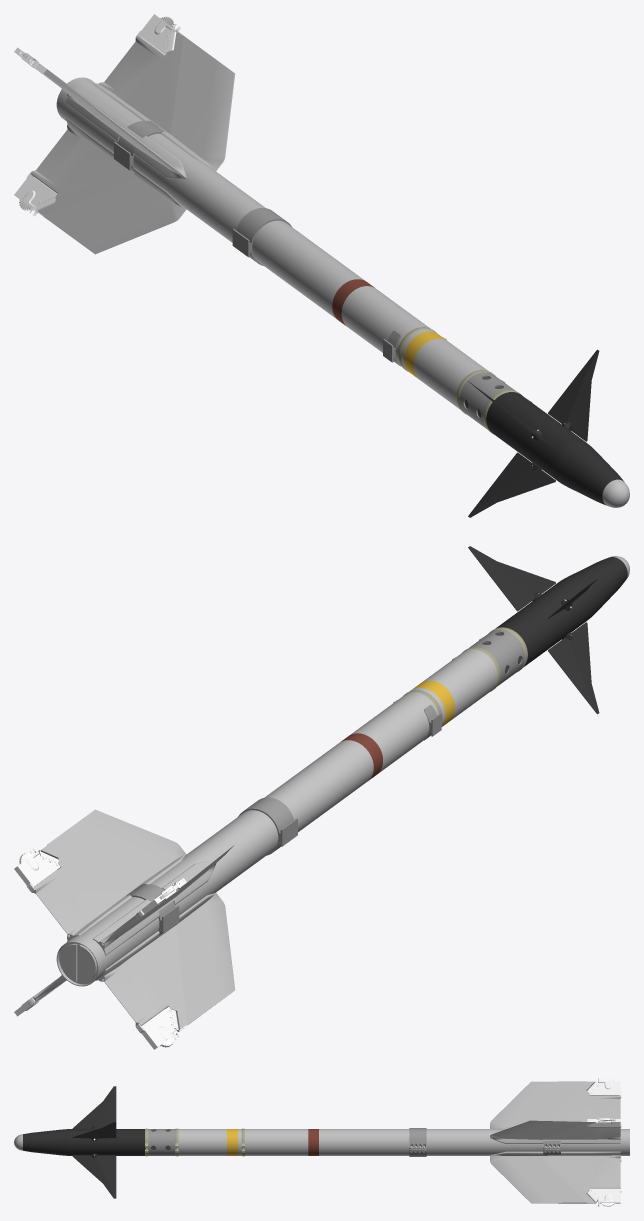
Rendered from aim-9m__sidewinder.glb.
3 views of the same model, one above another, from view 1: azimuth 30°, elevation 25°; view 2: azimuth 150°, elevation 25°; view 3: azimuth 270°, elevation 25° (orthographic). The views are drawn at different scales.
Parts seen in each view (by area): view 1: Cylinder_52, Plane_008_47, Plane_001_41, Plane_004_44, Cube_012_9, Cube_014_11, Cylinder_021_25, Cylinder_002_12, Cylinder_010_18, Cylinder_024_28, Cylinder_018_23; view 2: Cylinder_52, Plane_008_47, Plane_001_41, Plane_004_44, Cube_012_9, Cube_014_11, Cylinder_021_25, Cylinder_002_12, Cylinder_024_28, Cylinder_010_18; view 3: Cylinder_52, Plane_017_51, Plane_004_44, Plane_001_41, Cube_011_8, Cube_013_10, Cylinder_021_25, Cylinder_036_39, Cube_014_11, Cylinder_011_19, Cylinder_018_23, Cylinder_010_18 (+1 smaller).
Part boxes in pixels (left/top/right/bottom): Cylinder_52: left=56, top=77, right=629, bottom=507; Plane_008_47: left=30, top=117, right=186, bottom=254; Plane_001_41: left=92, top=31, right=235, bottom=170; Plane_004_44: left=36, top=69, right=186, bottom=178; Cube_012_9: left=468, top=452, right=555, bottom=517; Cube_014_11: left=548, top=349, right=599, bottom=441; Cylinder_021_25: left=232, top=208, right=291, bottom=265; Cylinder_002_12: left=138, top=14, right=180, bottom=54; Cylinder_010_18: left=114, top=121, right=163, bottom=172; Cylinder_024_28: left=14, top=174, right=56, bottom=215; Cylinder_018_23: left=397, top=327, right=532, bottom=434; Cylinder_52: left=56, top=556, right=629, bottom=986; Plane_008_47: left=96, top=892, right=235, bottom=1029; Plane_001_41: left=32, top=809, right=186, bottom=941; Plane_004_44: left=93, top=843, right=234, bottom=955; Cube_012_9: left=548, top=622, right=599, bottom=714; Cube_014_11: left=468, top=546, right=555, bottom=611; Cylinder_021_25: left=238, top=797, right=297, bottom=855; Cylinder_002_12: left=14, top=847, right=60, bottom=886; Cylinder_024_28: left=141, top=1006, right=180, bottom=1049; Cylinder_010_18: left=128, top=884, right=179, bottom=935; Cylinder_52: left=14, top=1129, right=629, bottom=1155; Plane_017_51: left=490, top=1151, right=620, bottom=1203; Plane_004_44: left=490, top=1081, right=620, bottom=1128; Plane_001_41: left=490, top=1119, right=620, bottom=1143; Cube_011_8: left=72, top=1153, right=116, bottom=1198; Cube_013_10: left=72, top=1086, right=116, bottom=1128; Cylinder_021_25: left=409, top=1128, right=426, bottom=1156; Cylinder_036_39: left=587, top=1188, right=620, bottom=1206; Cube_014_11: left=72, top=1122, right=116, bottom=1141; Cylinder_011_19: left=587, top=1081, right=620, bottom=1095; Cylinder_018_23: left=145, top=1128, right=244, bottom=1156; Cylinder_010_18: left=543, top=1140, right=560, bottom=1154.
Bounding box in the file's own units: 0.2655 × 0.2655 × 1.66.
